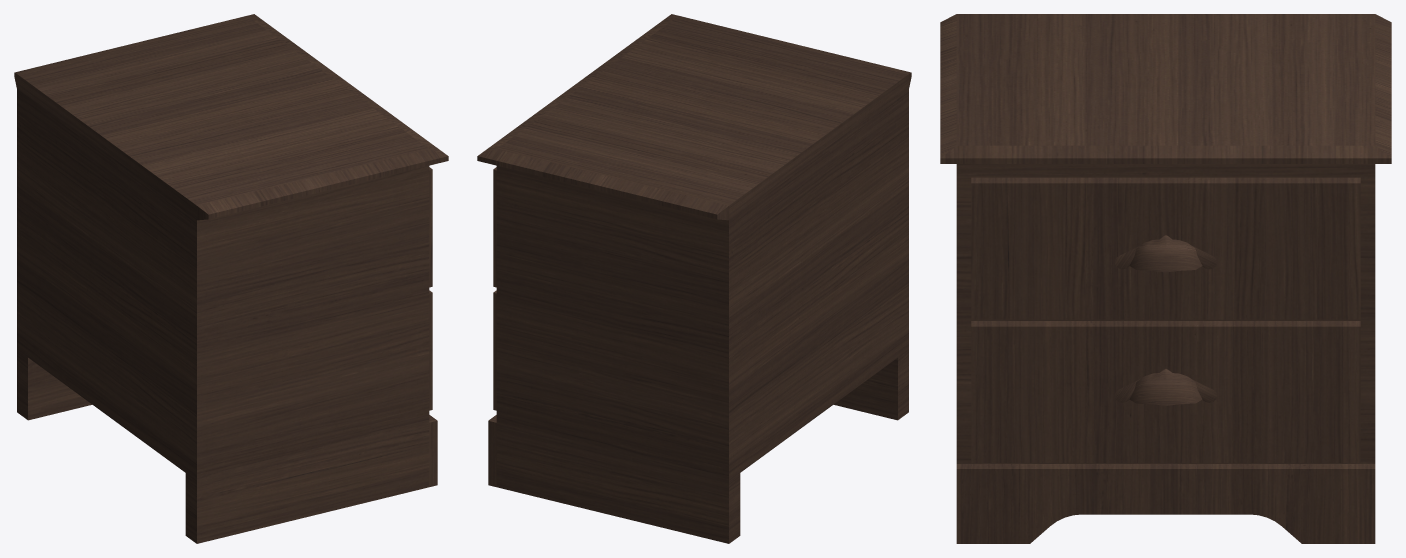
The model's file is nightstand.glb.
3 renders of one model, left to right at view 1: azimuth 30°, elevation 25°; view 2: azimuth 150°, elevation 25°; view 3: azimuth 270°, elevation 25°, orthographic. The views are drawn at different scales.
Visible parts, largest first — view 1: b_low, a_low, c_low; view 2: b_low, a_low, c_low; view 3: a_low, b_low, c_low, d_low.
Boxes of the visible parts, x1,y1,x2,y2 form: b_low: [14, 14, 448, 543]; a_low: [429, 167, 432, 410]; c_low: [429, 415, 437, 486]; b_low: [477, 14, 911, 543]; a_low: [493, 167, 496, 410]; c_low: [488, 415, 496, 486]; a_low: [971, 177, 1360, 462]; b_low: [940, 14, 1391, 463]; c_low: [956, 464, 1375, 543]; d_low: [1114, 235, 1217, 405].
Size of the model in its own units: 0.6586 by 0.8249 by 0.8582.
Materials: 1 (1 with a texture image).
